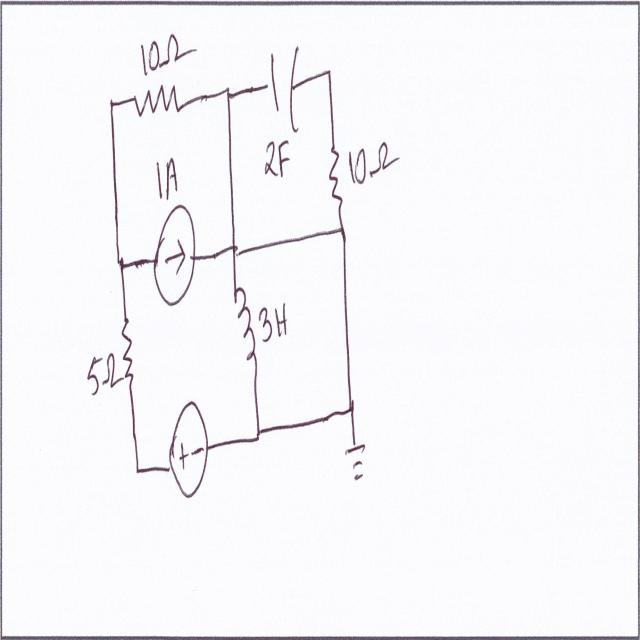capacitor: (266, 47, 306, 135)
current_source: (152, 199, 200, 317)
ground: (343, 430, 372, 496)
inductor: (225, 281, 258, 384)
resistor: (121, 312, 146, 393), (131, 77, 180, 118), (326, 137, 345, 213)
voltage_source: (166, 392, 212, 508)
